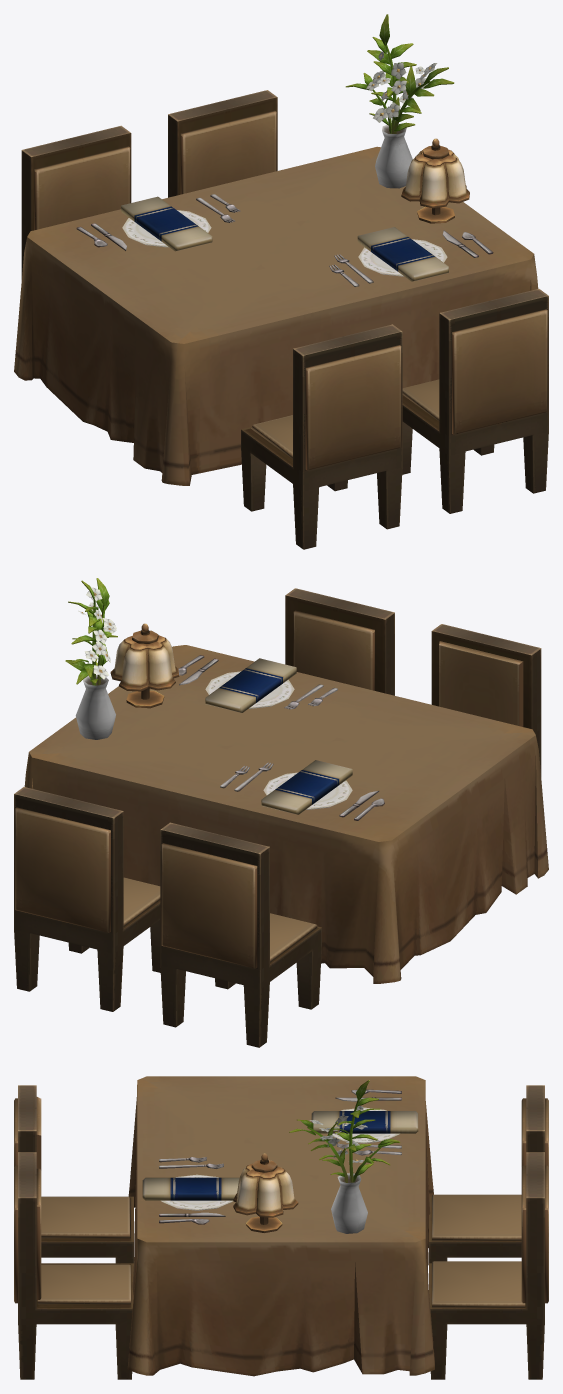
The model's file is my_highlander_01_table_01.glb.
3 views of the same model, one above another, from view 1: azimuth 30°, elevation 25°; view 2: azimuth 150°, elevation 25°; view 3: azimuth 270°, elevation 25° (orthographic). The views are drawn at different scales.
Parts seen in each view (by area): view 1: my_highlander_01_table_01; view 2: my_highlander_01_table_01; view 3: my_highlander_01_table_01.
Part boxes in pixels (bbox=[...]): my_highlander_01_table_01: bbox=[14, 14, 548, 549]; my_highlander_01_table_01: bbox=[14, 578, 548, 1047]; my_highlander_01_table_01: bbox=[14, 1076, 548, 1379].
Bounding box in the file's own units: 0.0118 × 0.00986 × 0.0153.
1 material, 1 textured.
